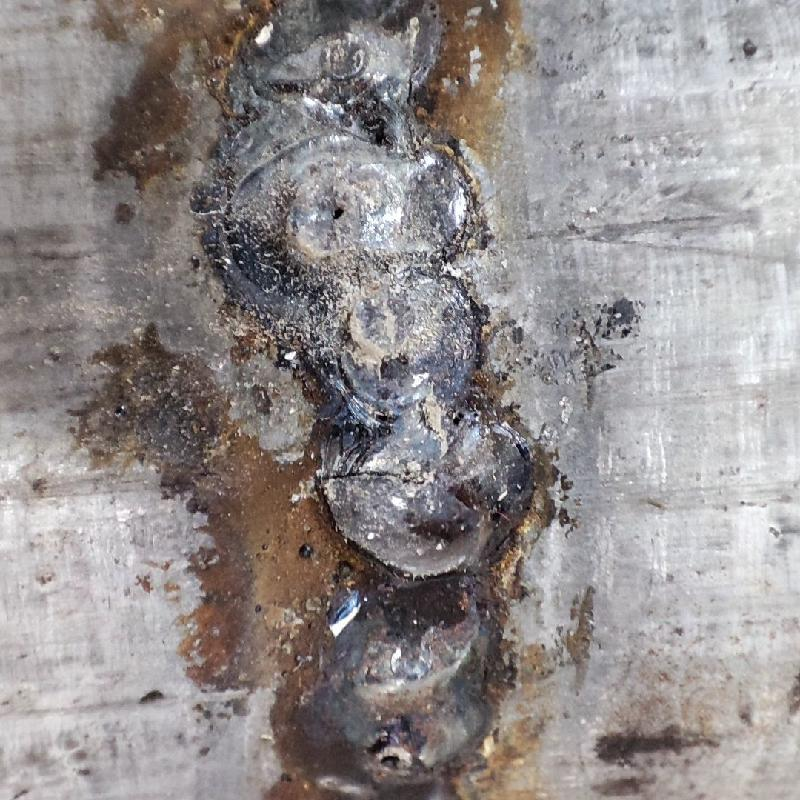Not_fully_soldered: (215, 3, 483, 550)
Surface_pores: (305, 190, 366, 243)
